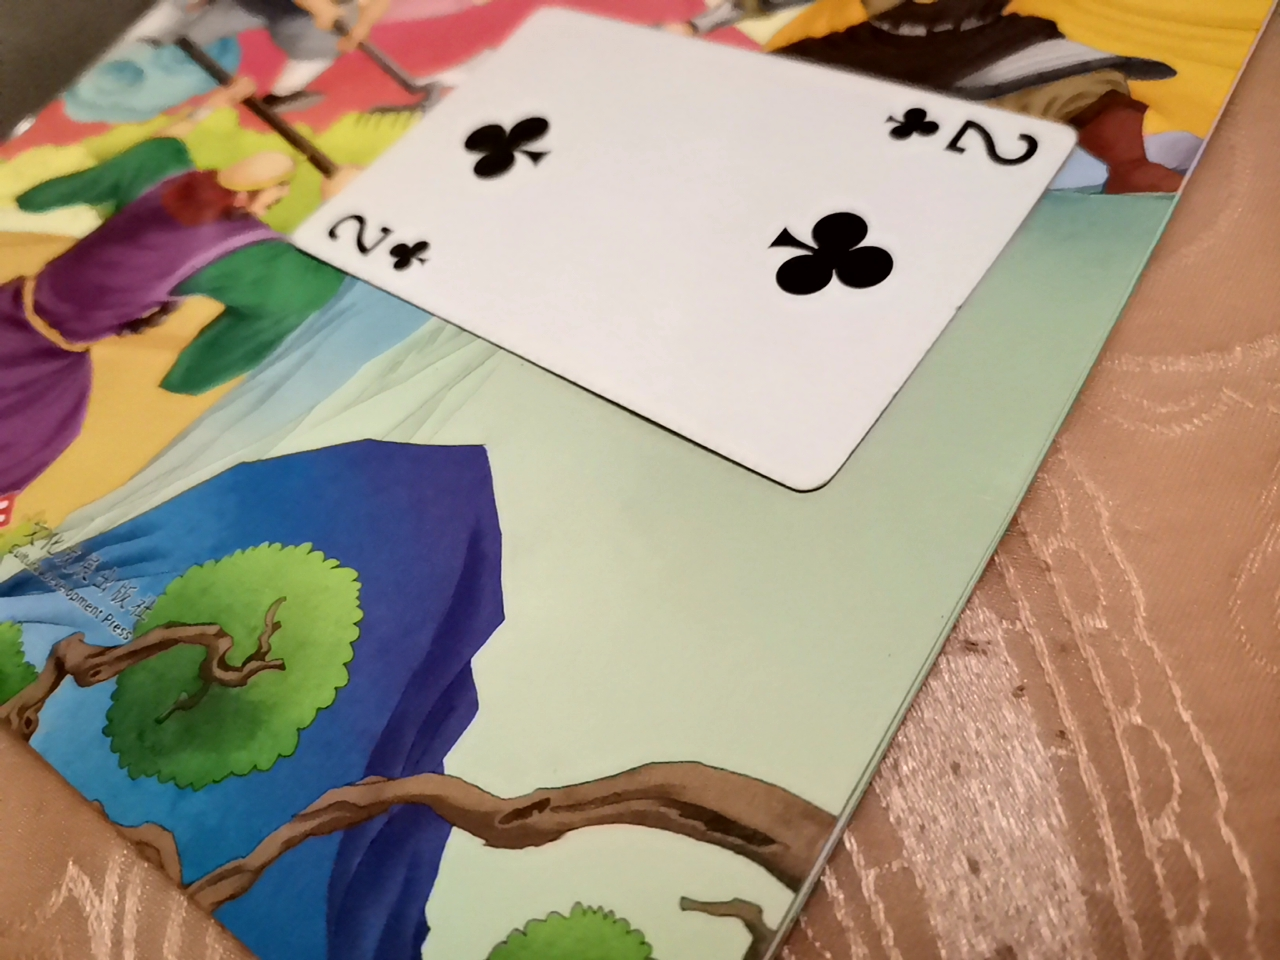mh 2: (322, 2, 1087, 485)
